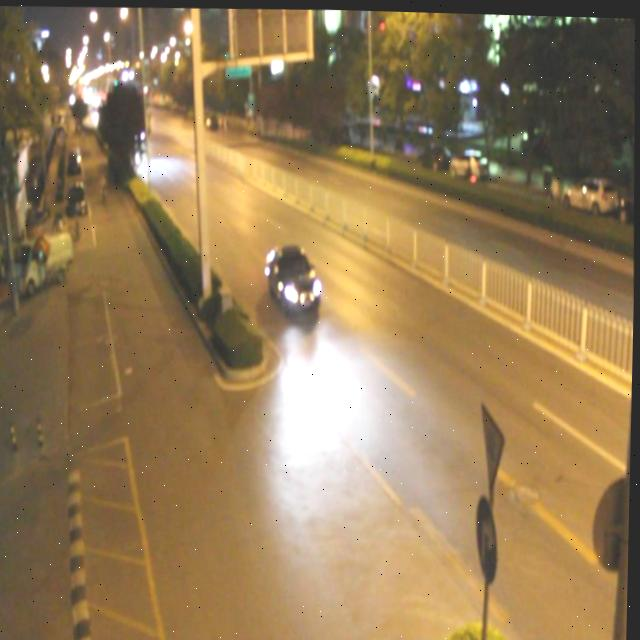car: (266, 240, 325, 318)
